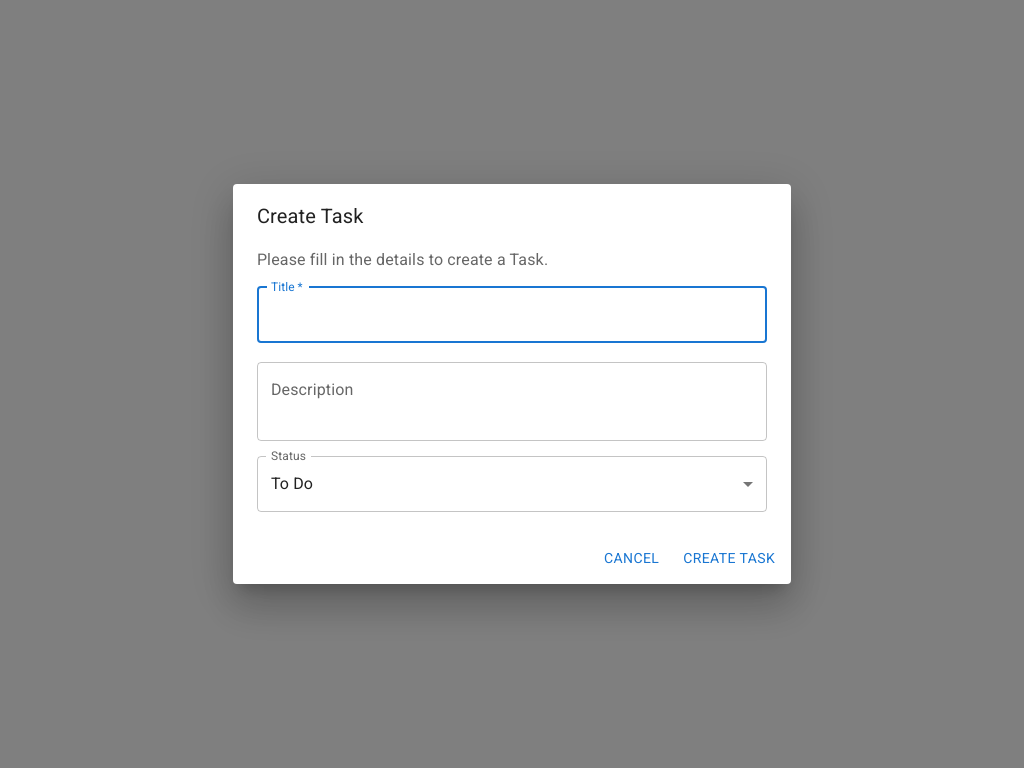
Test: CreateTask › Should change input fields
Type "First" into the field.
click(512, 315); type("First")  # box 257,287 -> 767,343
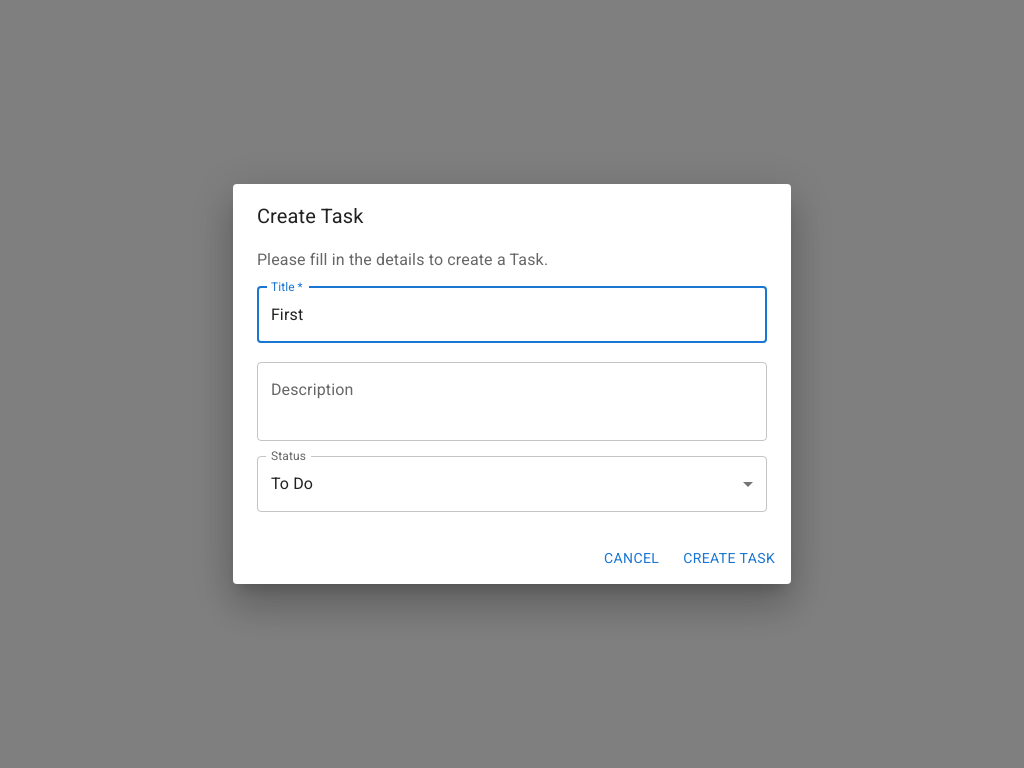
Type "First description" into the text box.
click(512, 401); type("First description")  # box 271,378 -> 753,424
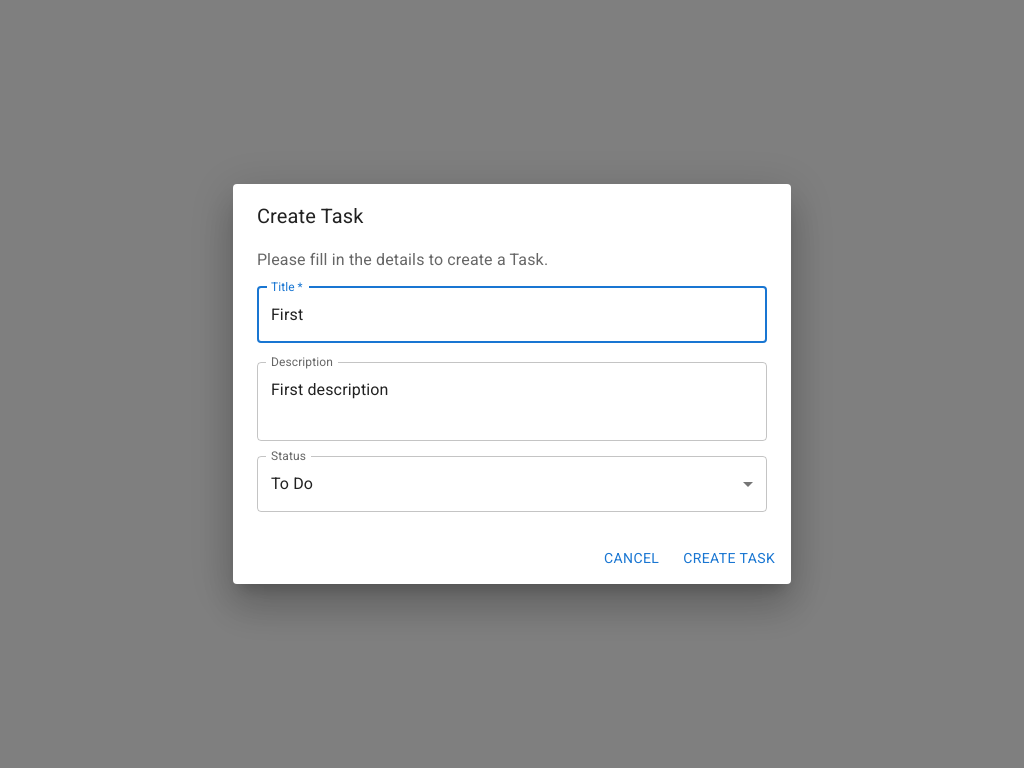
Press the mouse on the dropdown named "Status" at (292, 484), box 271,474 -> 313,493
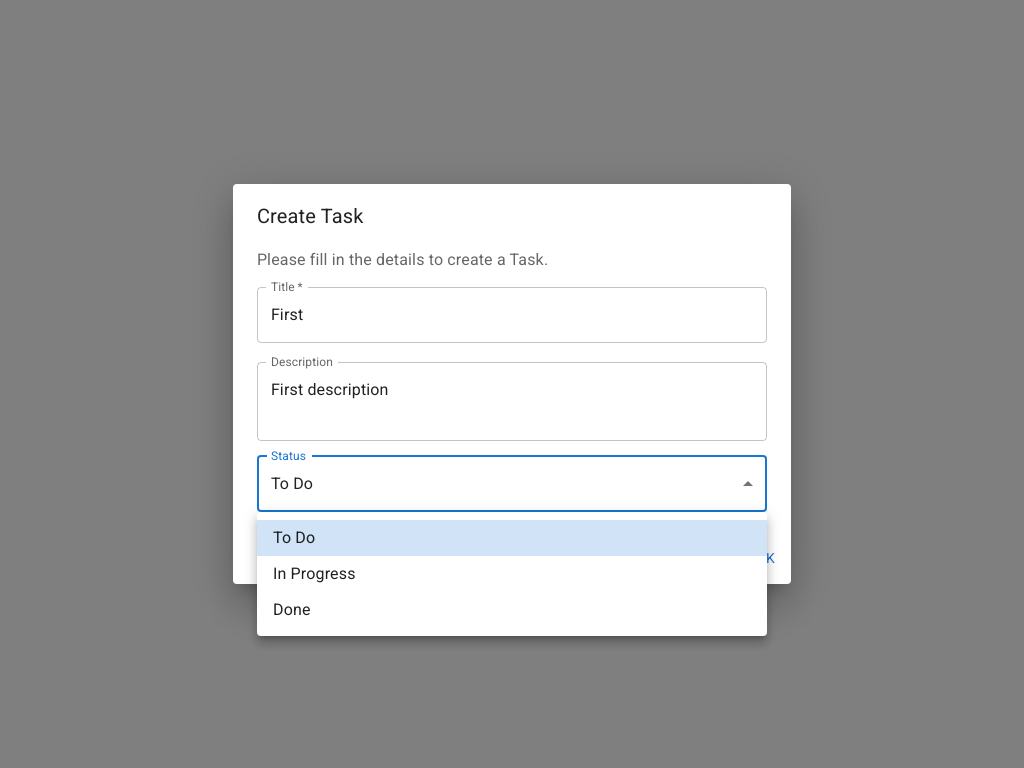
Click the option "In Progress".
click(314, 574)  # box 273,564 -> 356,583
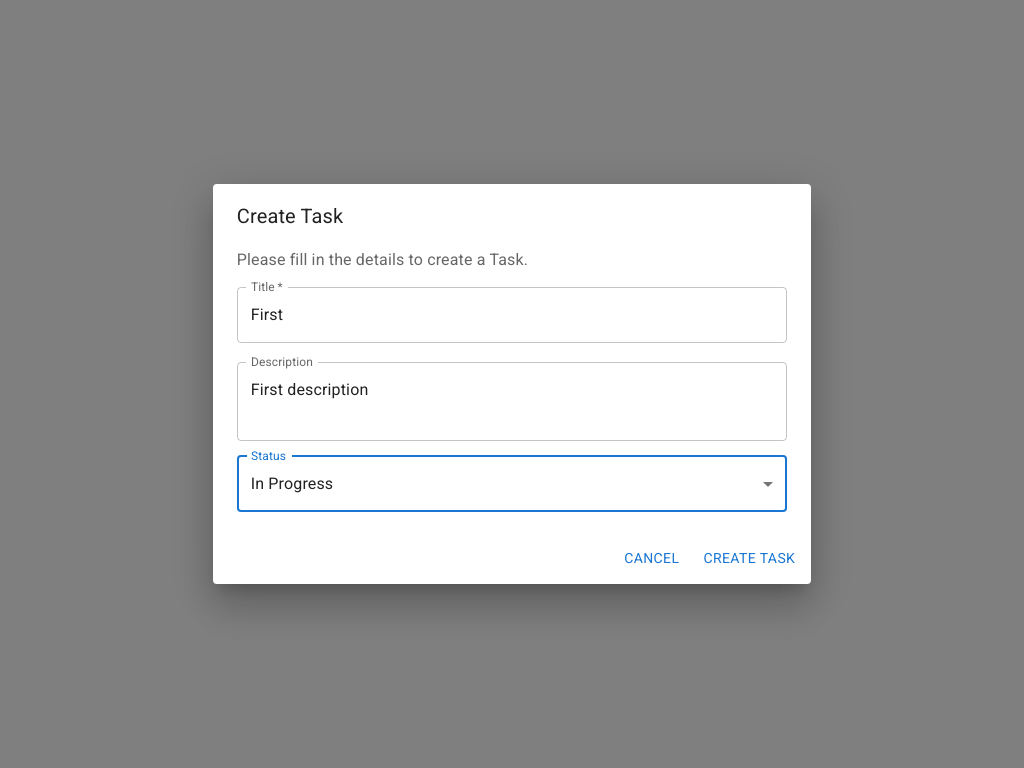
expect the dropdown named "Status" reads "In Progress": met, box 251,474 -> 333,493
